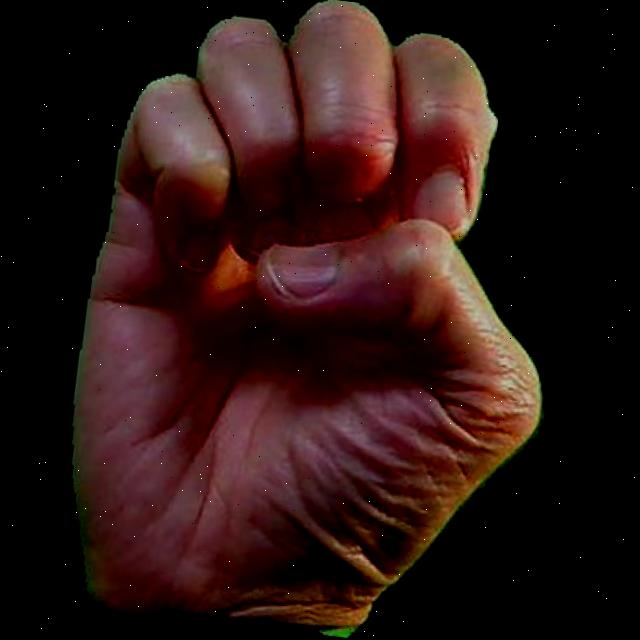e: (36, 0, 598, 640)
